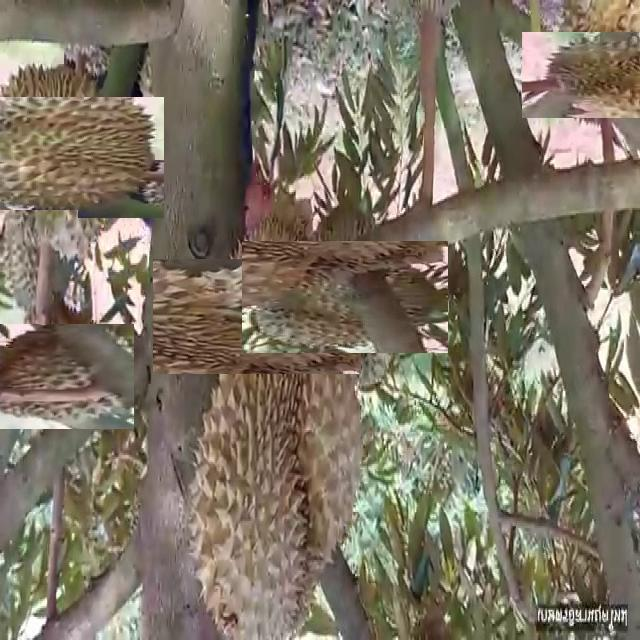durian: (180, 324, 369, 640), (176, 236, 338, 398), (266, 217, 425, 377), (0, 76, 142, 240), (0, 314, 124, 440), (537, 18, 640, 134), (0, 210, 78, 316)
